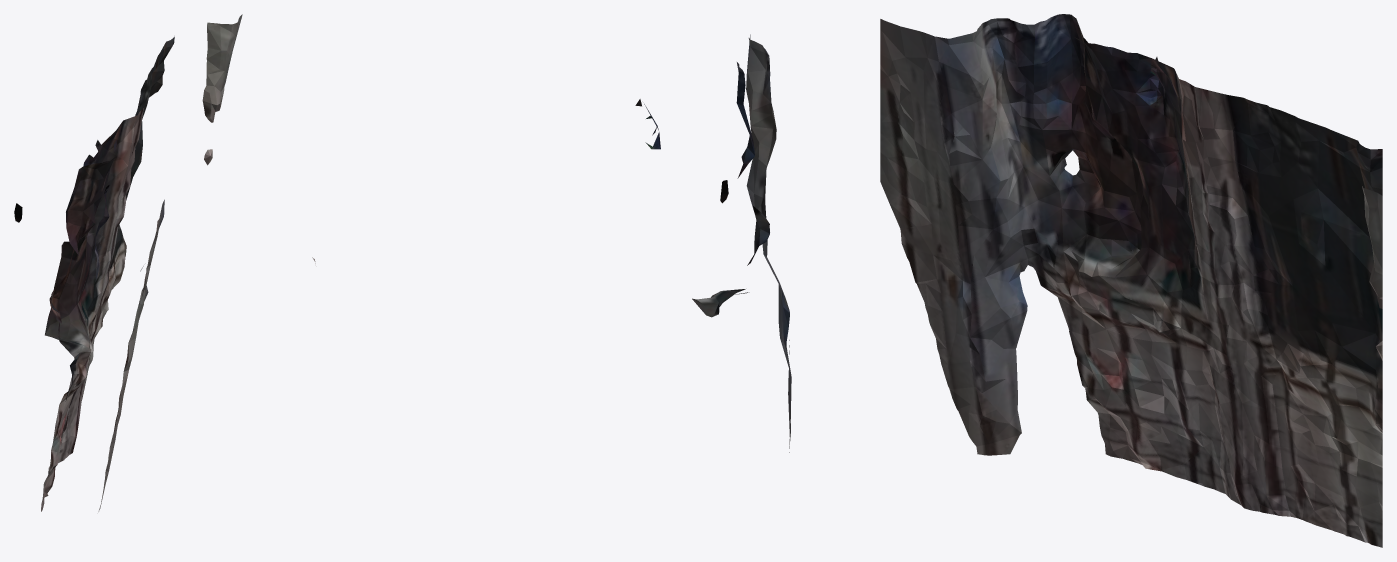
The picture shows the model from 3 angles, left to right: view 1: azimuth 30°, elevation 25°; view 2: azimuth 150°, elevation 25°; view 3: azimuth 270°, elevation 25°; orthographic projection. The views are drawn at different scales.
Size of the model in its own units: 0.7771 by 0.8374 by 0.8373.
Materials: 3 (3 with a texture image).
